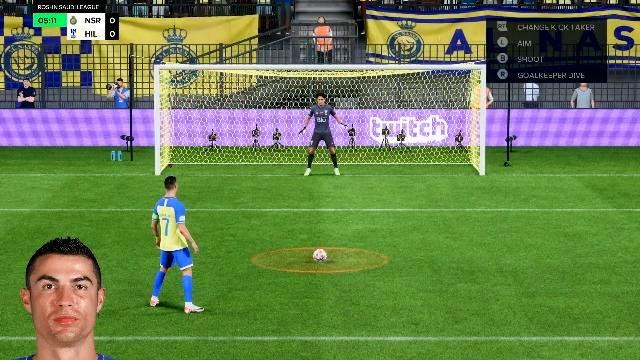bottom-left: (159, 130, 263, 176)
bottom-right: (378, 128, 480, 176)
center-down: (266, 128, 376, 176)
center-up: (265, 74, 373, 126)
circle: (250, 246, 390, 274)
football: (310, 250, 330, 262)
goalkeeper: (286, 96, 356, 176)
player: (150, 178, 207, 316)
top-left: (162, 72, 262, 128)
top-right: (378, 72, 480, 127)
